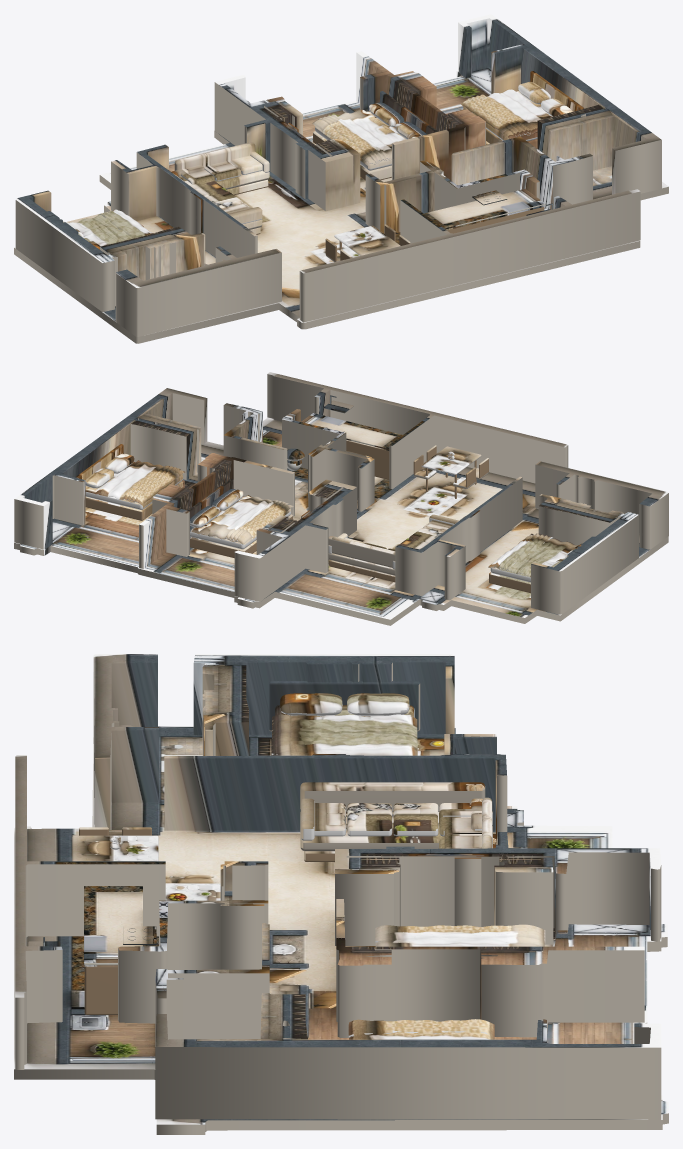
The model's file is p6-04-u04-2112-image-model.glb.
3 renders of one model, top to bottom at view 1: azimuth 30°, elevation 25°; view 2: azimuth 150°, elevation 25°; view 3: azimuth 270°, elevation 25°, orthographic. The views are drawn at different scales.
Visible parts, largest first — view 1: Partition walls, Apartment floor, Stone worktop, Draped bed linen.002, Draped bed linen.004, Draped bed linen, Marble dining top, Sofa back.001, Draped bed linen.003, Draped bed linen.005, Kitchen cabinets, Upholstered headboard.001 (+5 smaller); view 2: Partition walls, Apartment floor, Draped bed linen.002, Draped bed linen.004, Stone worktop, Draped bed linen, Sofa back.001, Marble dining top, Walnut upholstered base.002, Kitchen cabinets, Draped bed linen.001, Draped bed linen.003 (+12 smaller); view 3: Partition walls, Apartment floor, Draped bed linen, Stone worktop, Sofa back, Upholstered headboard, Marble dining top, Draped bed linen.003, Draped bed linen.001, Upholstered sofa frame, Draped bed linen.005, Kitchen cabinets (+7 smaller).
Boxes of the visible parts, <box> form: Partition walls: <box>15,14,661,336</box>; Apartment floor: <box>14,67,668,343</box>; Stone worktop: <box>424,189,545,229</box>; Draped bed linen.002: <box>312,109,405,164</box>; Draped bed linen.004: <box>460,89,550,138</box>; Draped bed linen: <box>69,210,153,246</box>; Marble dining top: <box>334,225,400,255</box>; Sofa back.001: <box>174,142,255,170</box>; Draped bed linen.003: <box>317,114,390,162</box>; Draped bed linen.005: <box>466,94,531,137</box>; Kitchen cabinets: <box>445,205,544,233</box>; Upholstered headboard.001: <box>380,91,437,134</box>; Partition walls: <box>14,372,668,614</box>; Apartment floor: <box>14,417,668,625</box>; Draped bed linen.002: <box>197,495,293,544</box>; Draped bed linen.004: <box>95,460,185,505</box>; Stone worktop: <box>301,413,402,449</box>; Draped bed linen: <box>488,533,578,577</box>; Sofa back.001: <box>328,536,395,567</box>; Marble dining top: <box>421,446,481,474</box>; Walnut upholstered base.002: <box>85,480,184,520</box>; Kitchen cabinets: <box>346,440,389,479</box>; Draped bed linen.001: <box>493,533,553,571</box>; Draped bed linen.003: <box>224,500,288,542</box>; Partition walls: <box>15,654,661,1119</box>; Apartment floor: <box>14,726,668,1134</box>; Draped bed linen: <box>272,714,417,755</box>; Stone worktop: <box>84,886,142,965</box>; Sofa back: <box>300,782,485,811</box>; Upholstered headboard: <box>269,681,420,731</box>; Marble dining top: <box>72,835,158,861</box>; Draped bed linen.003: <box>375,924,545,943</box>; Draped bed linen.001: <box>271,735,417,755</box>; Upholstered sofa frame: <box>300,811,444,851</box>; Draped bed linen.005: <box>348,1019,494,1038</box>; Kitchen cabinets: <box>84,965,117,1014</box>.
Size of the model in its own units: 13.49 by 1.3 by 9.37.
Materials: 13 (3 with a texture image).
